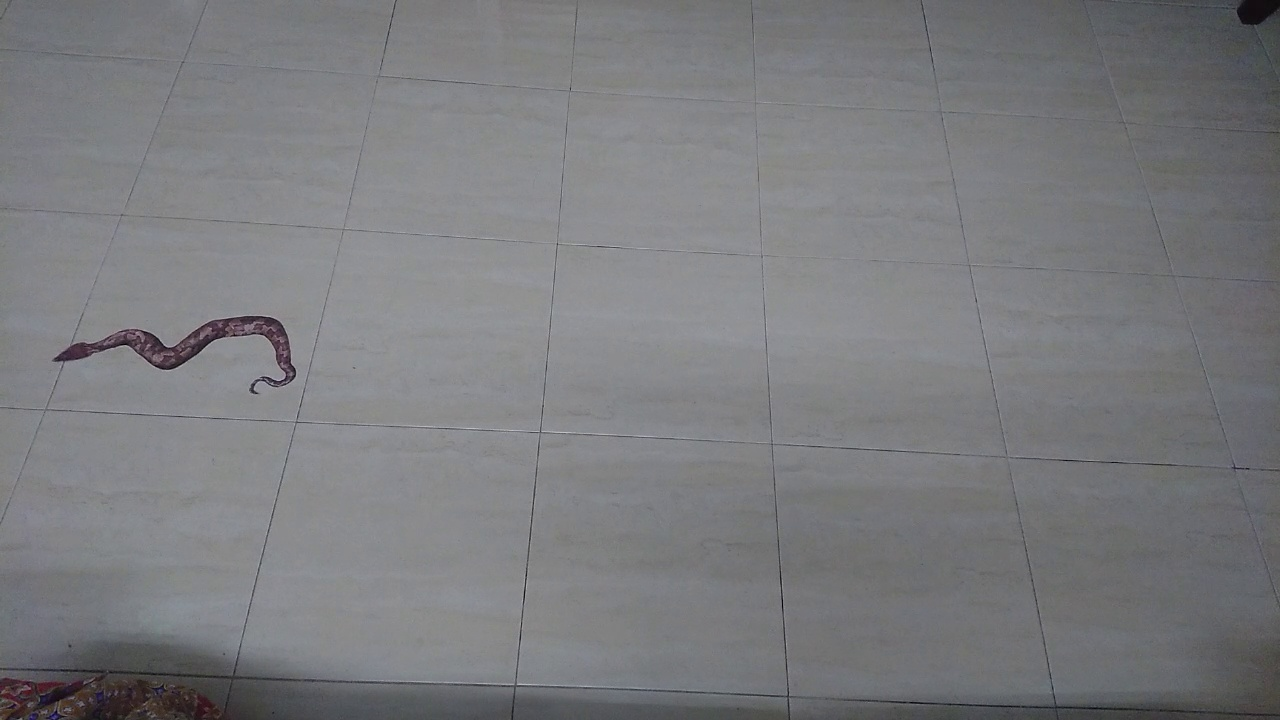snake: (40, 304, 304, 404)
